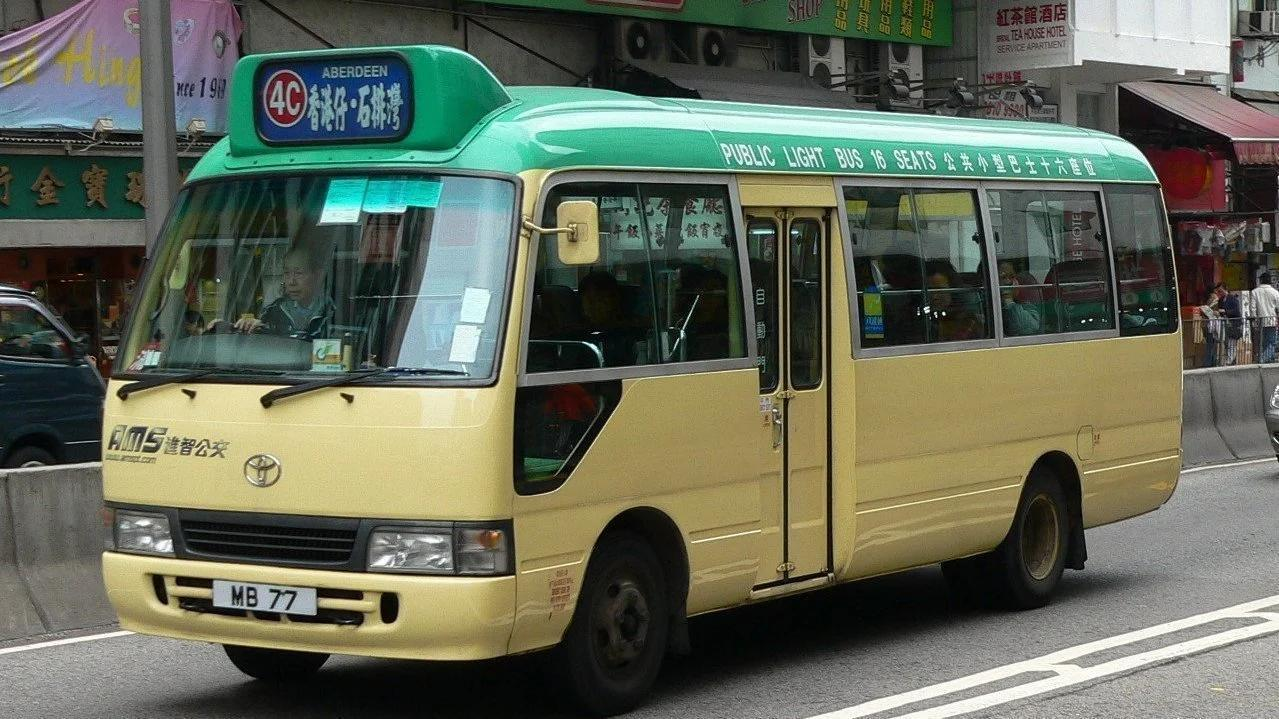Bus: (98, 45, 1189, 718)
